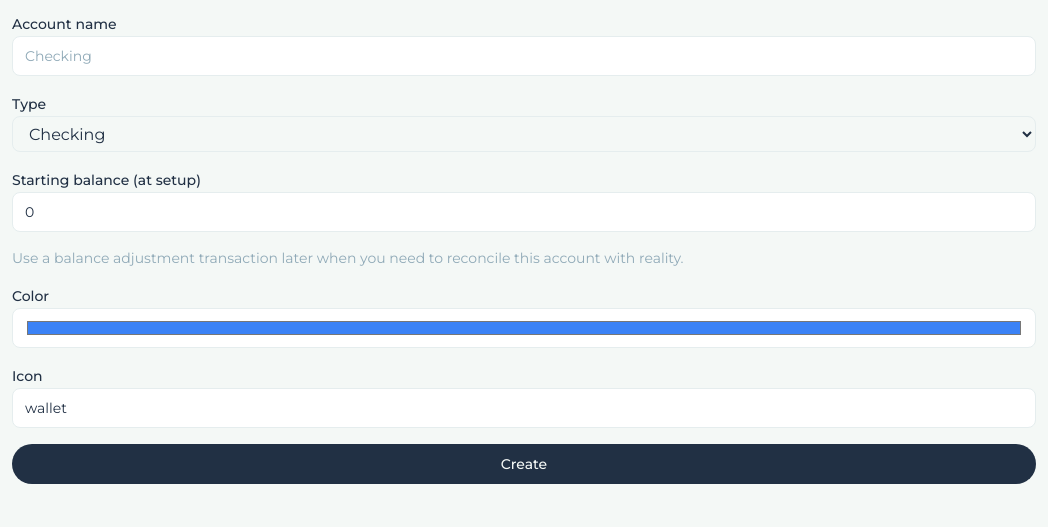
Test: AccountForm › validates required fields
Step 1. Click the button "Create" → point(524, 464), box [12,444,1036,484]
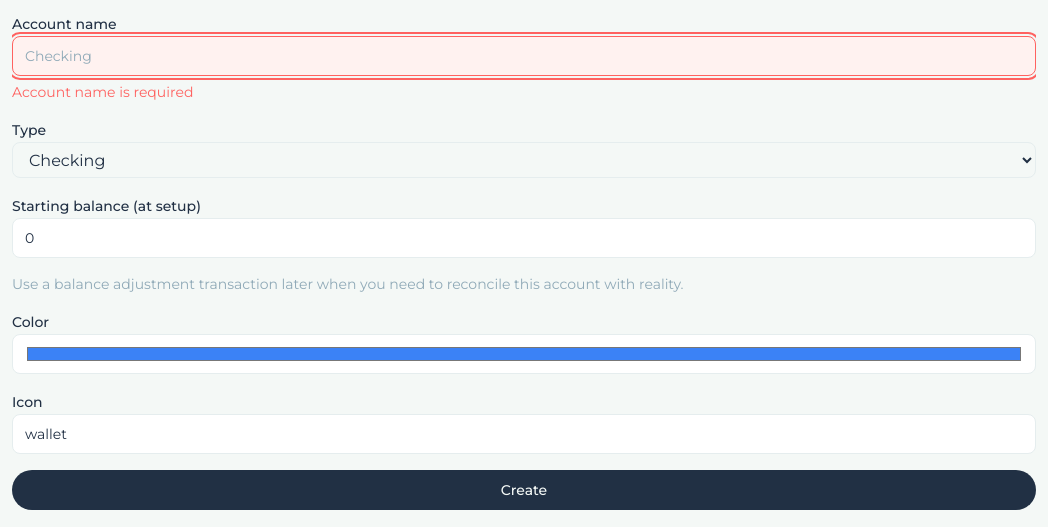
Expected: the text "Account name is required" is shown, [12,83,193,101]
